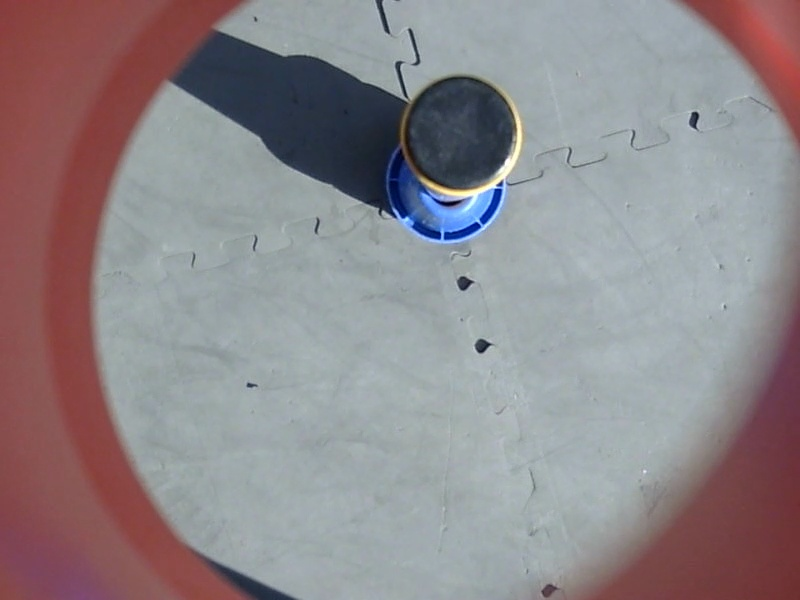tip: (395, 71, 528, 203)
